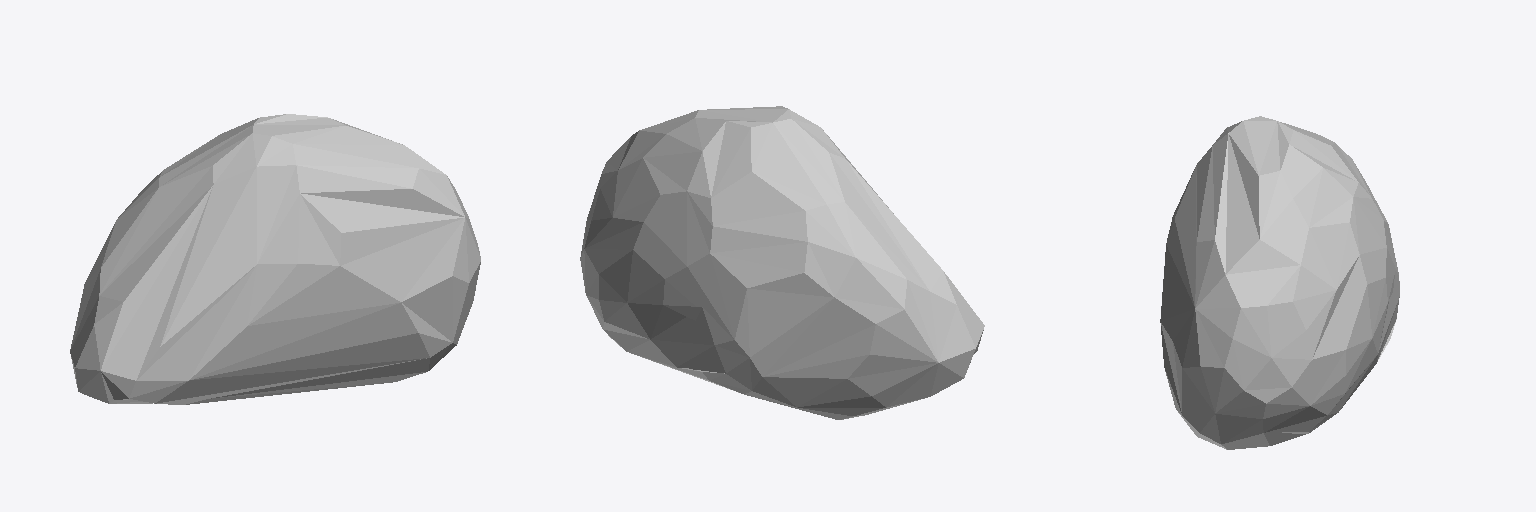
Rendered from small_bush.obj.
3 renders of one model, left to right at view 1: azimuth 30°, elevation 25°; view 2: azimuth 150°, elevation 25°; view 3: azimuth 270°, elevation 25°, orthographic.
Visible parts, largest first — view 1: Icosphere.064; view 2: Icosphere.064; view 3: Icosphere.064.
Boxes of the visible parts, <box> form: Icosphere.064: <box>70,114,480,404</box>; Icosphere.064: <box>580,106,984,419</box>; Icosphere.064: <box>1160,116,1399,449</box>.
Size of the model in its own units: 1.69 by 1.12 by 0.9029.